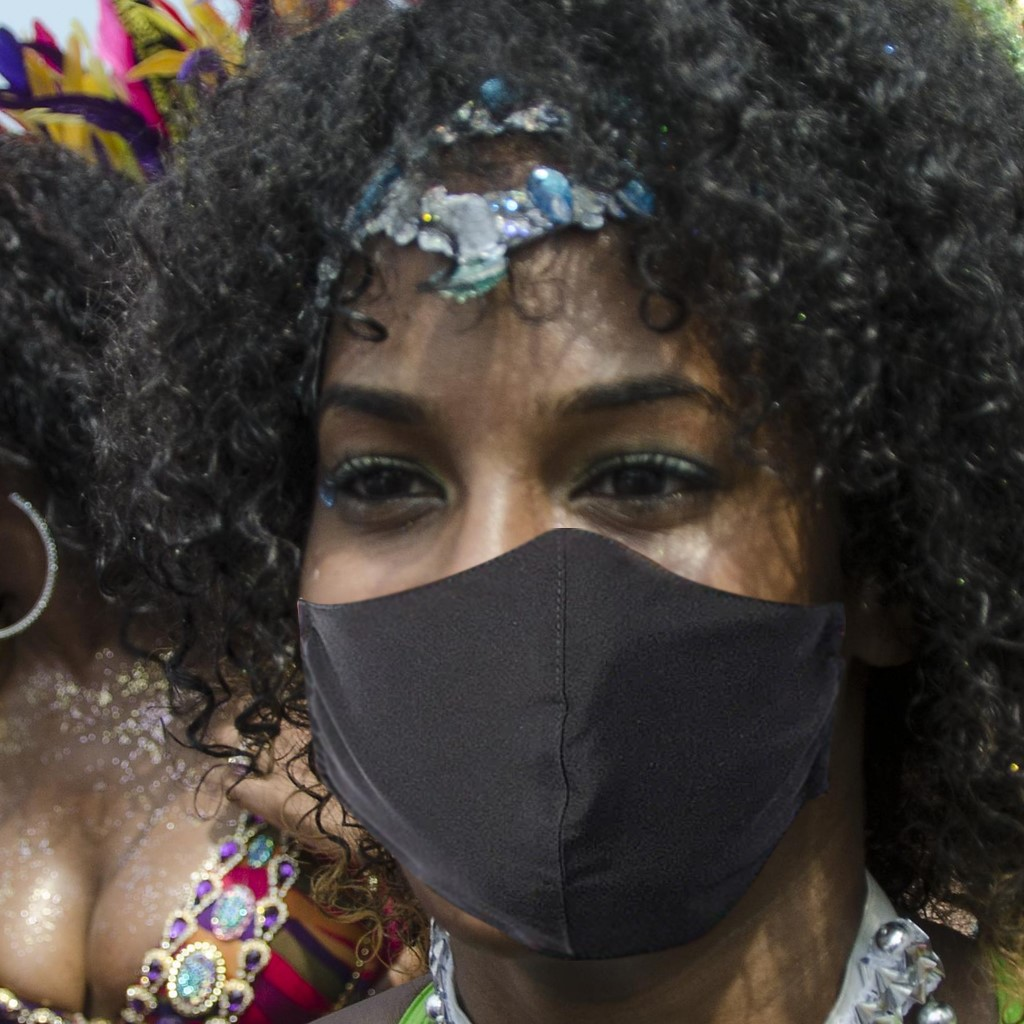con_mascara: (272, 186, 876, 947)
